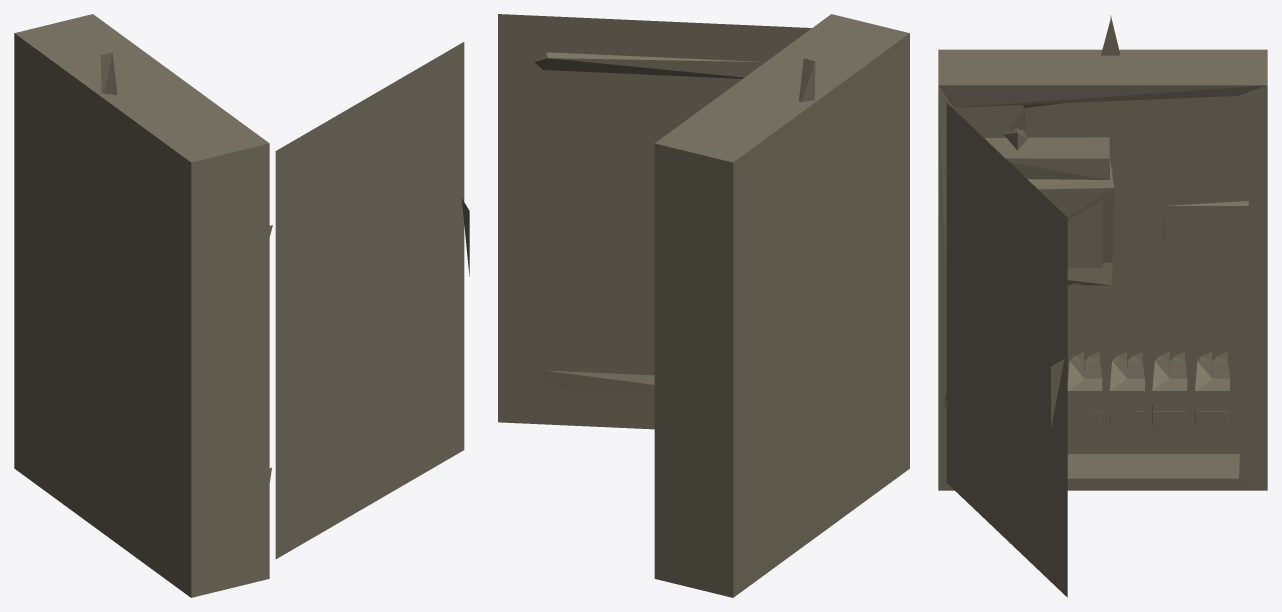
File: ew-electrical-box.lod0.glb
3 views of the same model, side by side, from view 1: azimuth 30°, elevation 25°; view 2: azimuth 150°, elevation 25°; view 3: azimuth 270°, elevation 25° (orthographic). The views are drawn at different scales.
Visible parts, largest first — view 1: Electrical Box_ElecticalBox_0; view 2: Electrical Box_ElecticalBox_0; view 3: Electrical Box_ElecticalBox_0.
Boxes of the visible parts, x1,y1,x2,y2 form: Electrical Box_ElecticalBox_0: (14, 14, 469, 597); Electrical Box_ElecticalBox_0: (498, 14, 909, 597); Electrical Box_ElecticalBox_0: (938, 15, 1267, 597).
Bounding box in the file's own units: 1.13 × 1.5 × 1.01.
